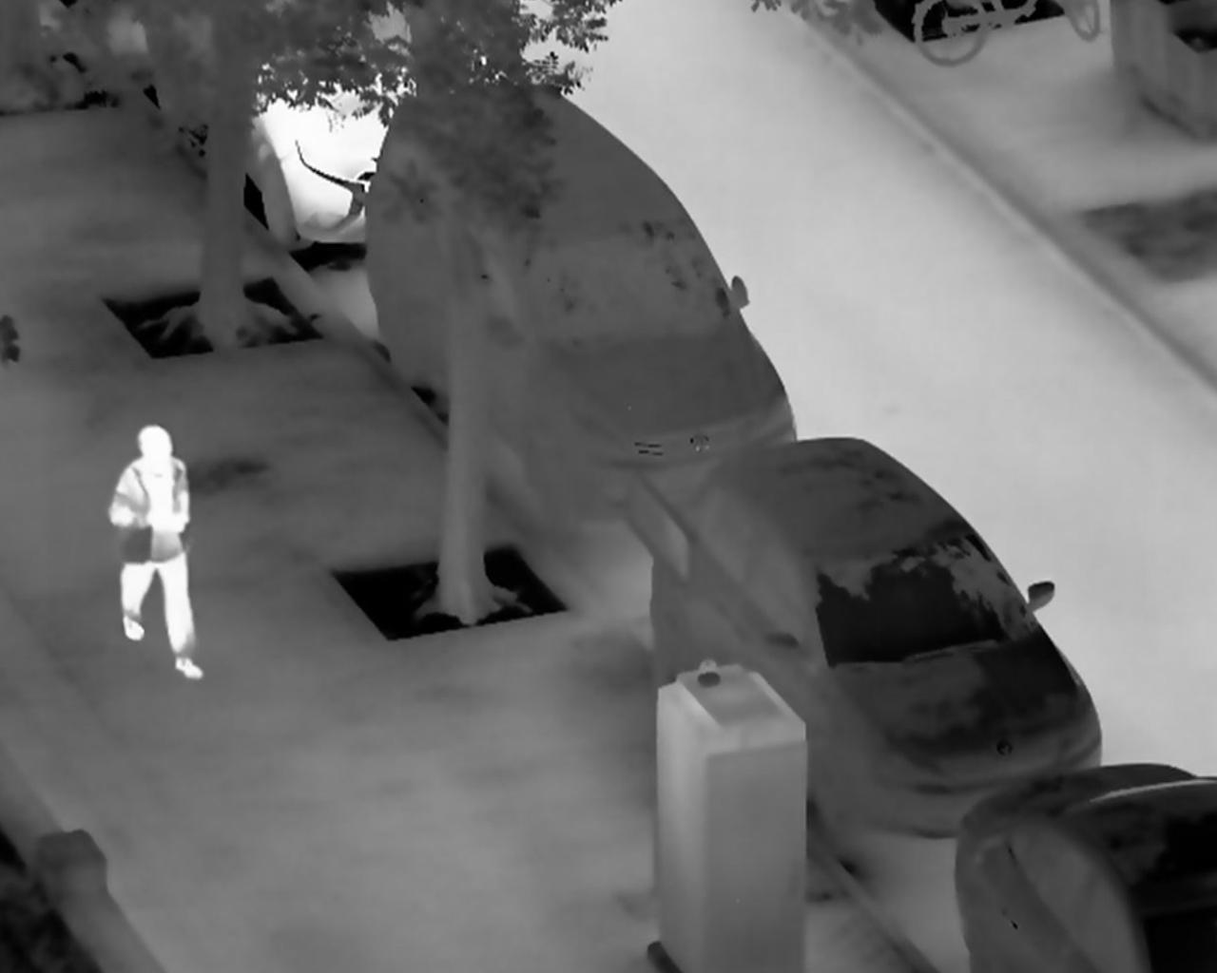person: (108, 425, 208, 684)
